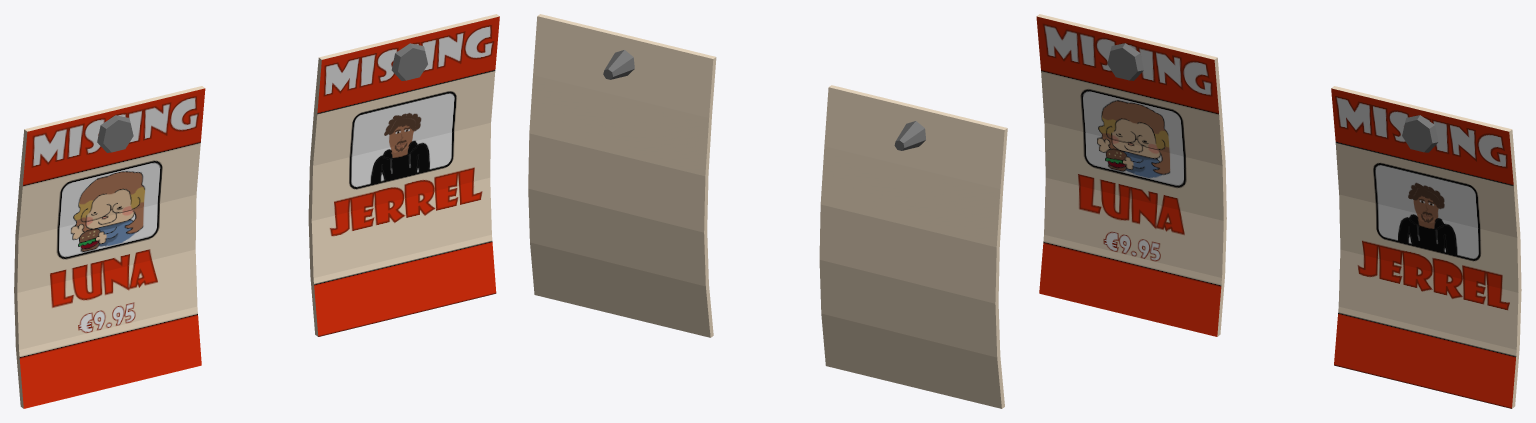
The model's file is OtherPosters.fbx.
3 views of the same model, side by side, from view 1: azimuth 30°, elevation 25°; view 2: azimuth 150°, elevation 25°; view 3: azimuth 330°, elevation 25° (orthographic).
Visible parts, largest first — view 1: Poster5, Poster4, Screw.004, Screw.003; view 2: Poster5, Poster4, Screw.003, Screw.004; view 3: Poster4, Poster5, Screw.003, Screw.004.
Part boxes in pixels (<box>): Poster5: <box>308,14,499,336</box>; Poster4: <box>14,86,205,408</box>; Screw.004: <box>391,43,427,80</box>; Screw.003: <box>97,115,133,152</box>; Poster5: <box>528,14,716,337</box>; Poster4: <box>819,85,1007,408</box>; Screw.003: <box>894,121,925,150</box>; Screw.004: <box>603,50,634,79</box>; Poster4: <box>1036,14,1226,336</box>; Poster5: <box>1331,86,1521,408</box>; Screw.003: <box>1107,43,1143,80</box>; Screw.004: <box>1402,115,1438,152</box>.
Bounding box in the file's own units: 93.21 × 52.65 × 7.98.
